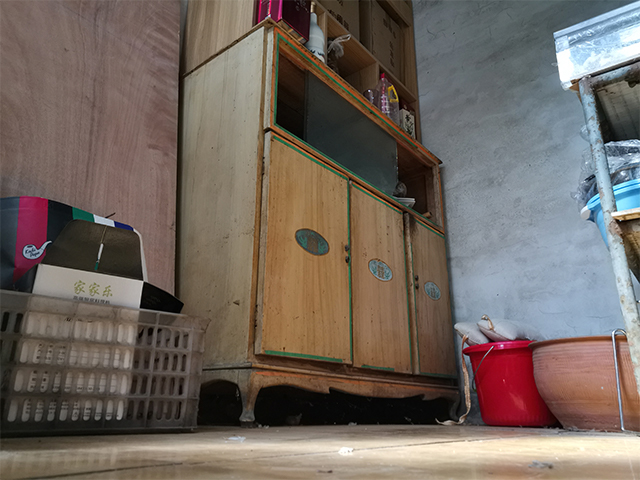cabinet: (218, 127, 465, 423)
